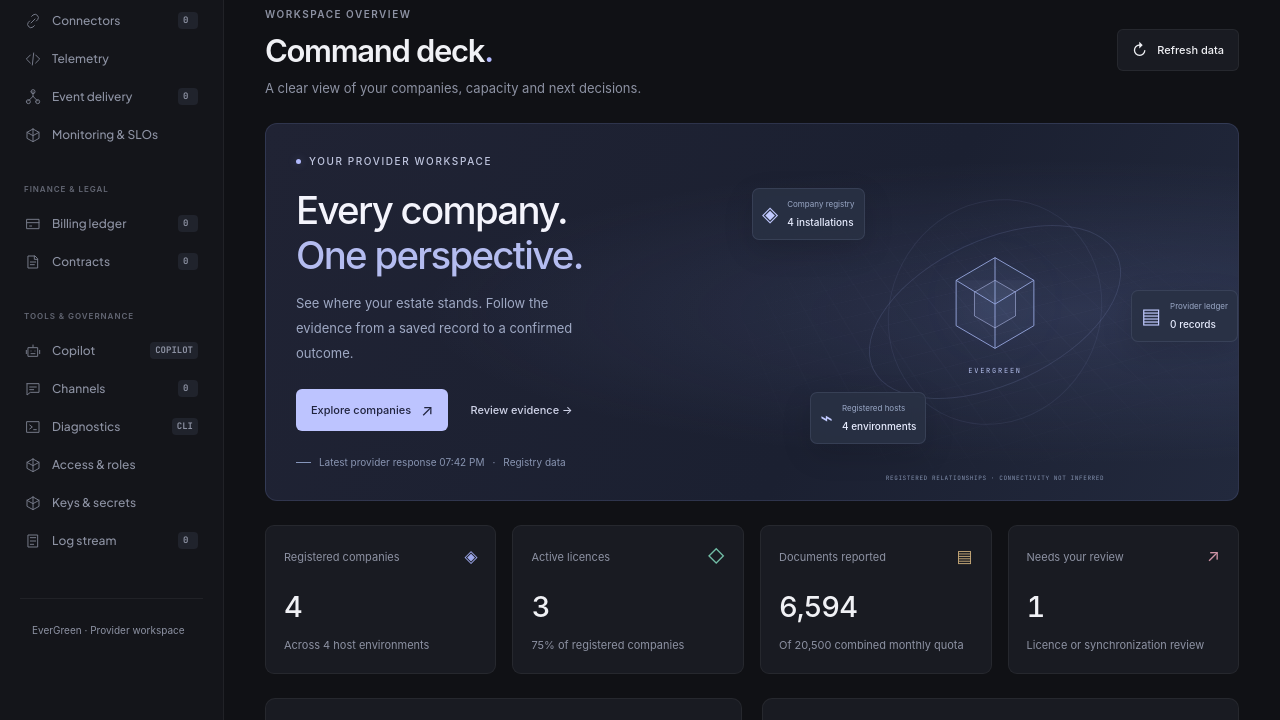
Test case: Provider admin workspace › reports a failed provider API check instead of inventing a status
(page scrolled)
Expected: the heading "Command deck." is shown, [265,32,493,69]
Click the button "Diagnostics CLI": (112,426) [12,408,211,446]
(page scrolled)
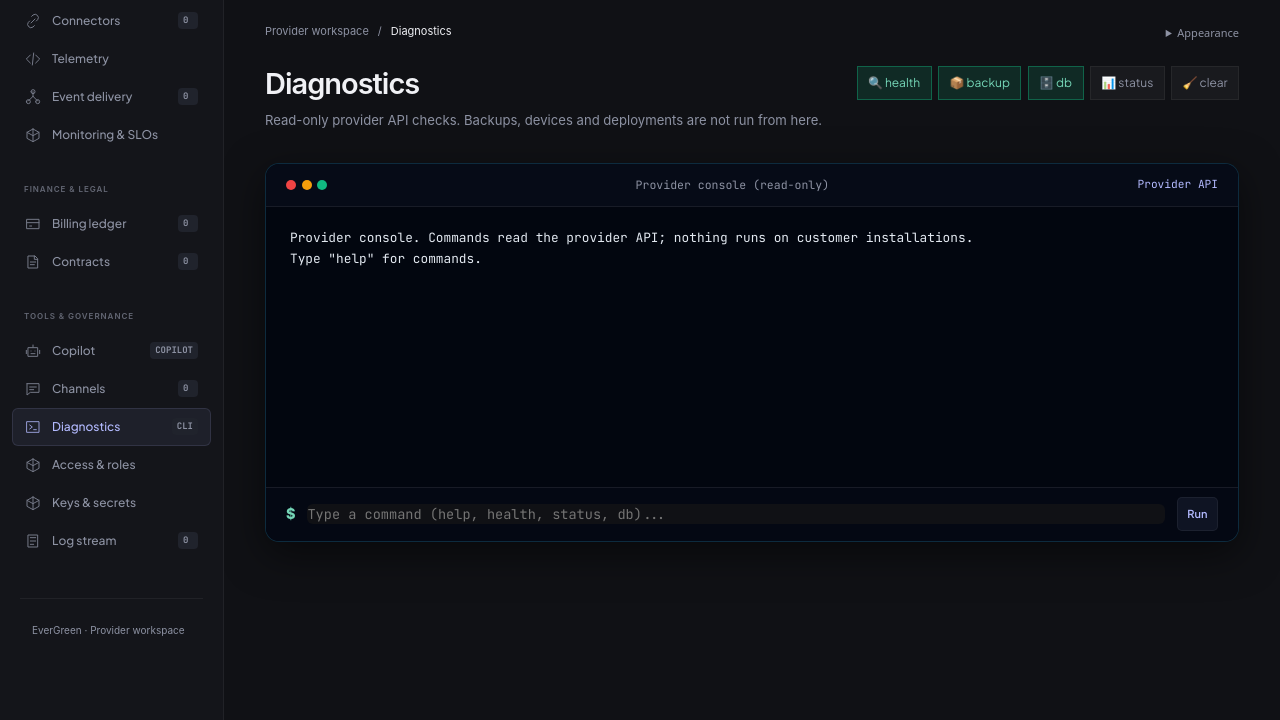
Click the button "🔍 health": (894,83) [856,66,932,100]
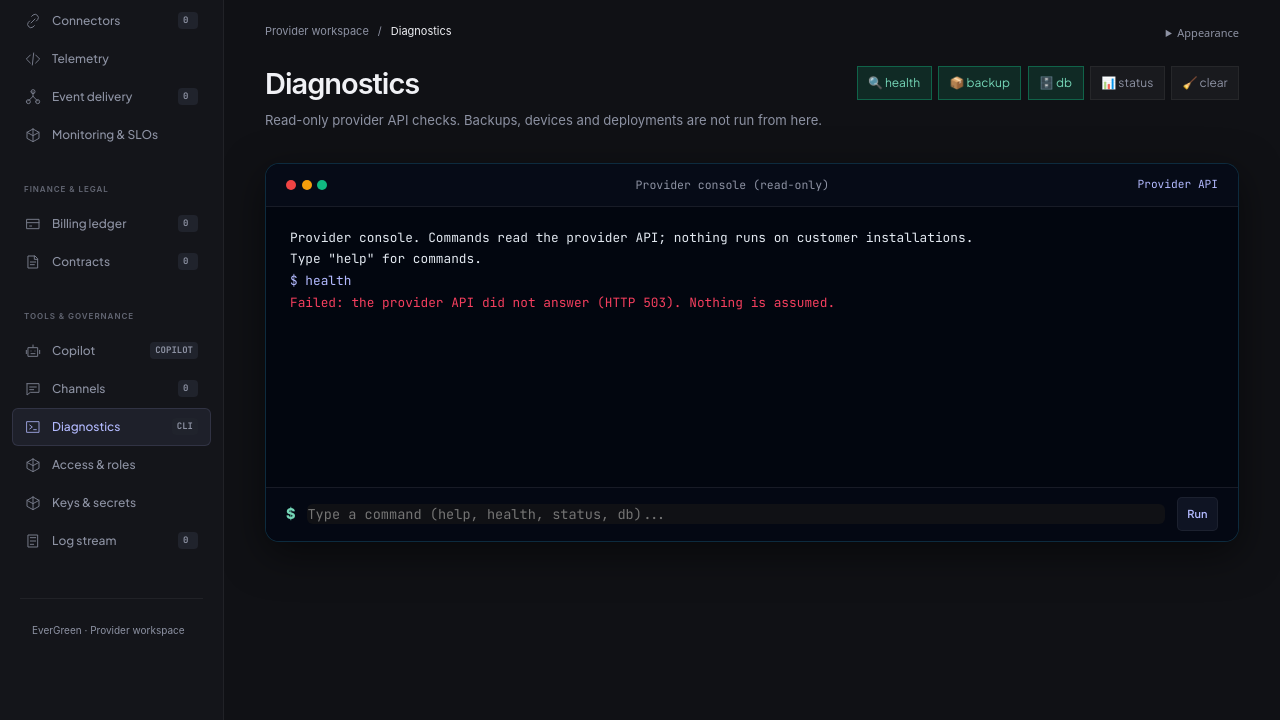
Expected: the text "Failed: the provider API did not answer (HTTP 503)" is shown, [290,294,835,311]
